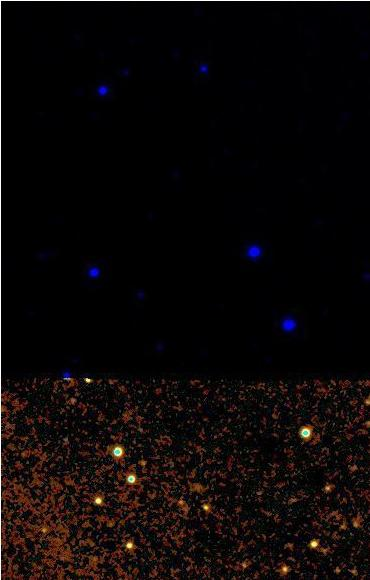star: (71, 364, 101, 394)
